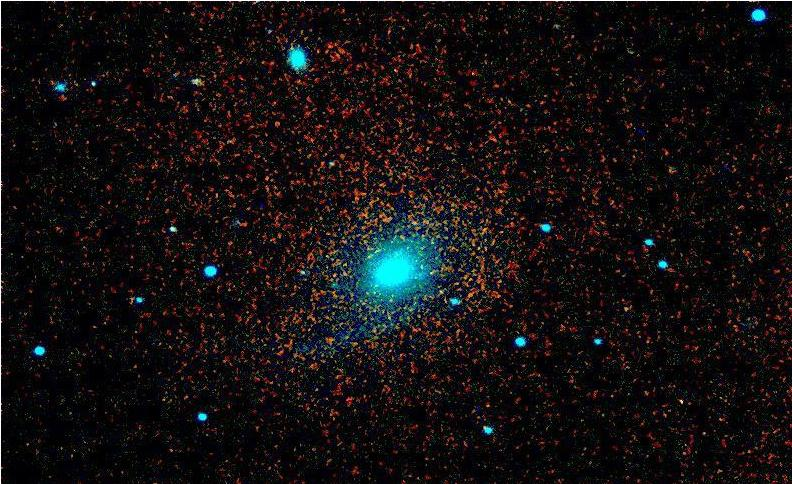star: (264, 110, 294, 140)
